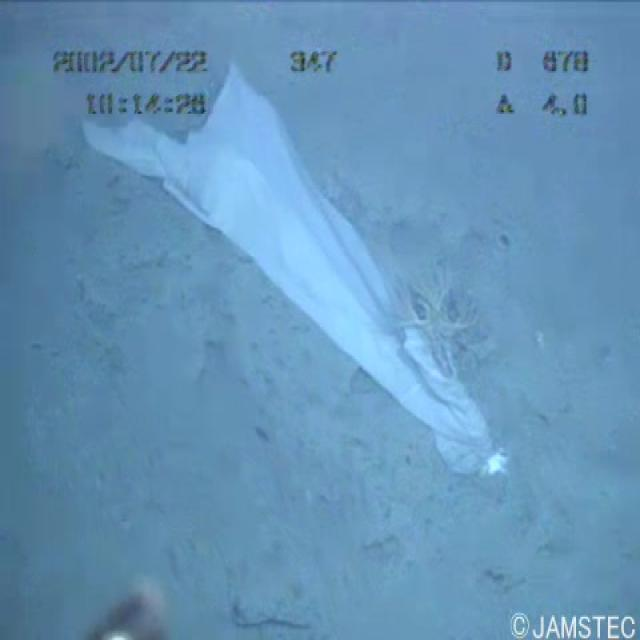plastic: (72, 51, 548, 506)
